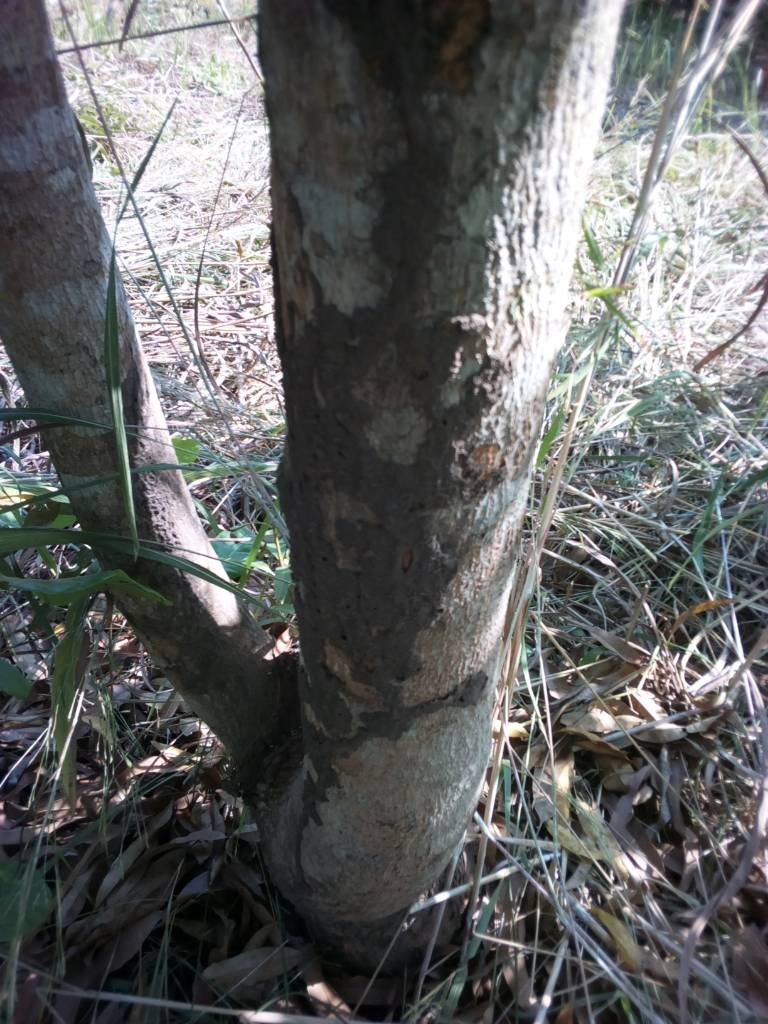Termites: (280, 105, 460, 800)
